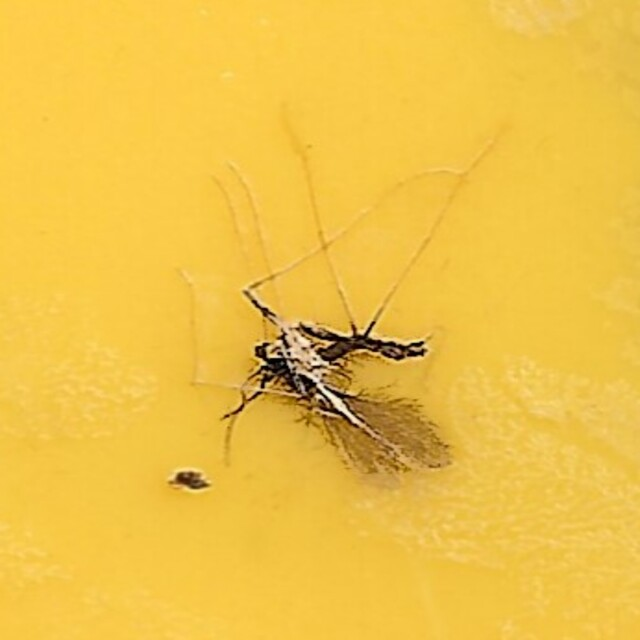Nematocera: (185, 152, 455, 488)
